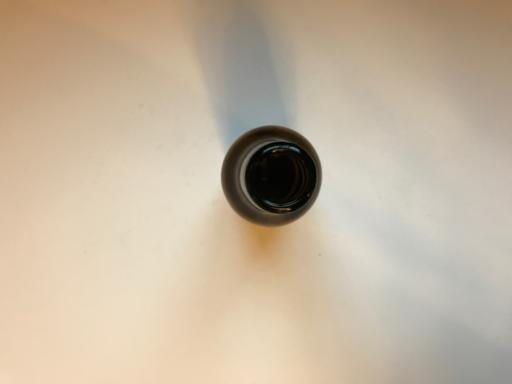botolkaca: (221, 126, 324, 228)
